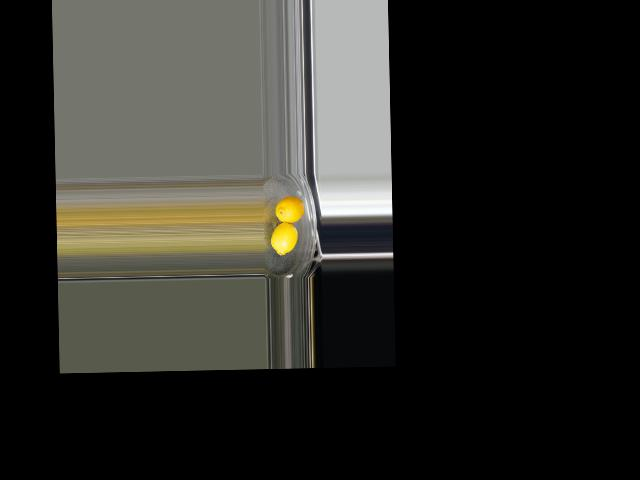lemon: (271, 219, 299, 257)
